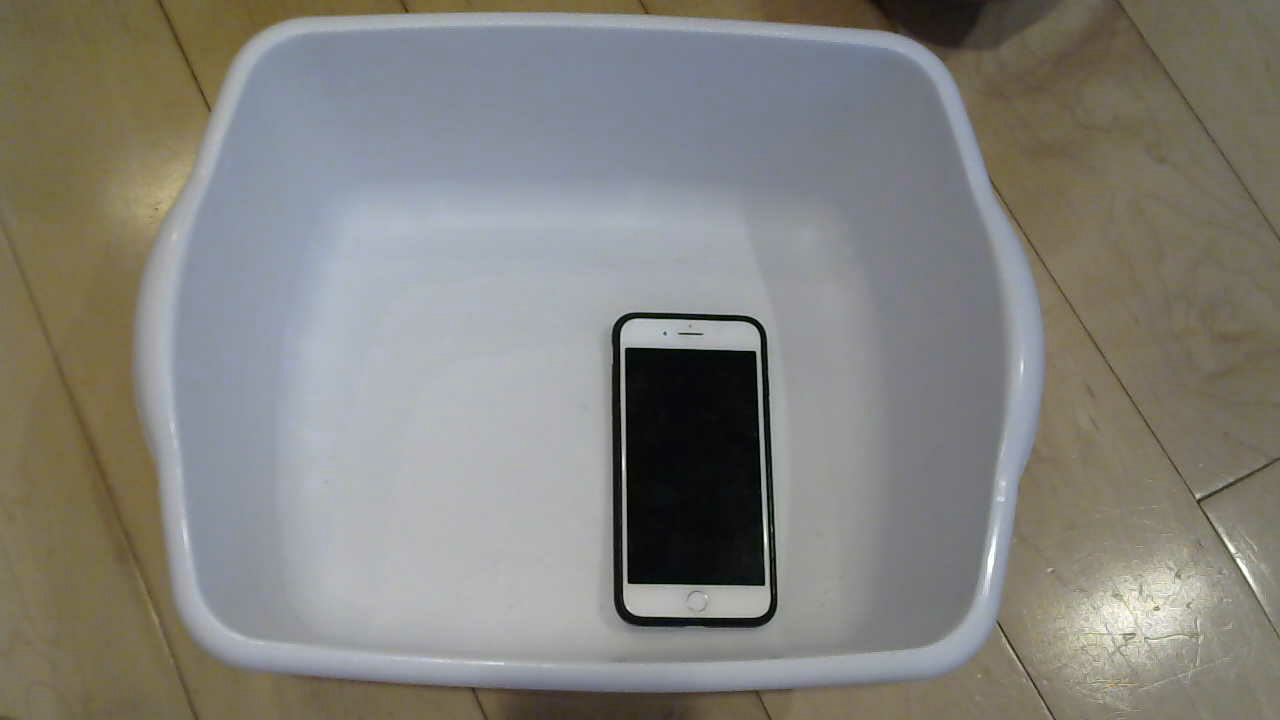phone: (593, 299, 800, 632)
